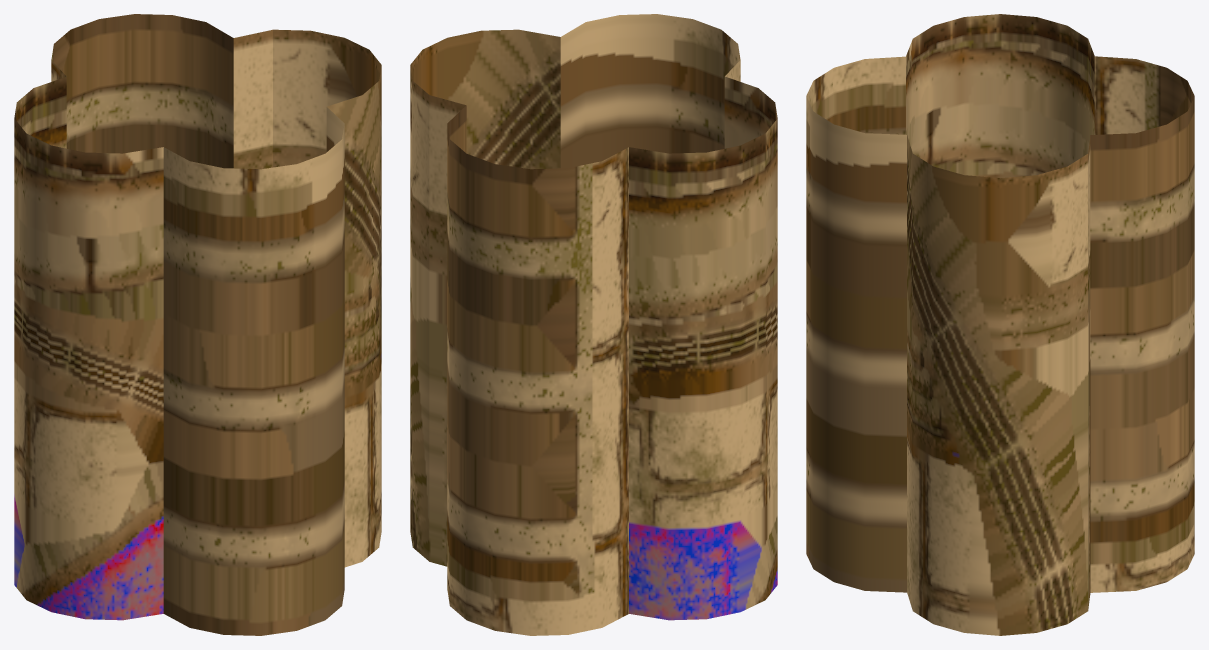
The model's file is SM_Columna1.fbx.
3 views of the same model, side by side, from view 1: azimuth 30°, elevation 25°; view 2: azimuth 150°, elevation 25°; view 3: azimuth 270°, elevation 25° (orthographic).
Parts seen in each view (by area): view 1: SM_Columna1; view 2: SM_Columna1; view 3: SM_Columna1.
Part boxes in pixels (left/top/right/bottom): SM_Columna1: left=14, top=14, right=381, bottom=635; SM_Columna1: left=410, top=14, right=777, bottom=635; SM_Columna1: left=806, top=14, right=1194, bottom=635.
Bounding box in the file's own units: 76.92 × 100 × 76.92.
